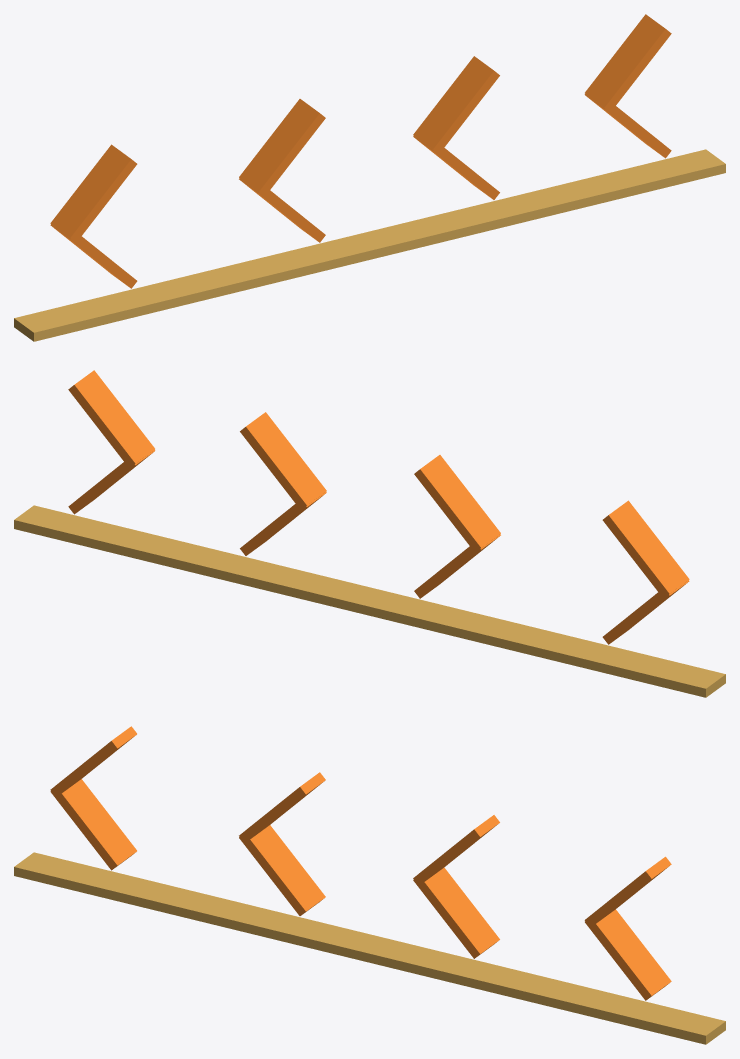
Rendered from Flicknote.glb.
3 renders of one model, top to bottom at view 1: azimuth 30°, elevation 25°; view 2: azimuth 150°, elevation 25°; view 3: azimuth 330°, elevation 25°, orthographic.
Visible parts, largest first — view 1: NoteBase, ArrowTop2, ArrowTop, ArrowTop4, ArrowTop3, ArrowBottom3, ArrowBottom4, ArrowBottom, ArrowBottom2; view 2: NoteBase, ArrowTop2, ArrowTop, ArrowTop4, ArrowTop3, ArrowBottom3, ArrowBottom, ArrowBottom4, ArrowBottom2; view 3: NoteBase, ArrowBottom3, ArrowBottom, ArrowBottom4, ArrowBottom2, ArrowTop3, ArrowTop, ArrowTop2, ArrowTop4.
Boxes of the visible parts, x1,y1,x2,y2 form: NoteBase: (14, 149, 725, 341); ArrowTop2: (413, 56, 499, 153); ArrowTop: (585, 14, 671, 112); ArrowTop4: (50, 144, 137, 242); ArrowTop3: (239, 99, 325, 192); ArrowBottom3: (239, 178, 325, 242); ArrowBottom4: (50, 224, 137, 288); ArrowBottom: (584, 94, 671, 158); ArrowBottom2: (413, 136, 499, 199); NoteBase: (14, 505, 725, 697); ArrowTop2: (240, 412, 326, 509); ArrowTop: (68, 370, 154, 467); ArrowTop4: (602, 500, 689, 595); ArrowTop3: (414, 455, 500, 548); ArrowBottom3: (414, 534, 500, 598); ArrowBottom: (68, 450, 155, 514); ArrowBottom4: (602, 580, 689, 644); ArrowBottom2: (240, 492, 326, 555); NoteBase: (14, 852, 725, 1044); ArrowBottom3: (239, 825, 325, 915); ArrowBottom: (585, 909, 671, 1000); ArrowBottom4: (50, 779, 136, 870); ArrowBottom2: (413, 867, 499, 958); ArrowTop3: (239, 772, 325, 843); ArrowTop: (584, 856, 671, 923); ArrowTop2: (413, 815, 499, 883); ArrowTop4: (50, 726, 136, 796).
Size of the model in its own units: 4 by 0.8782 by 0.2.
